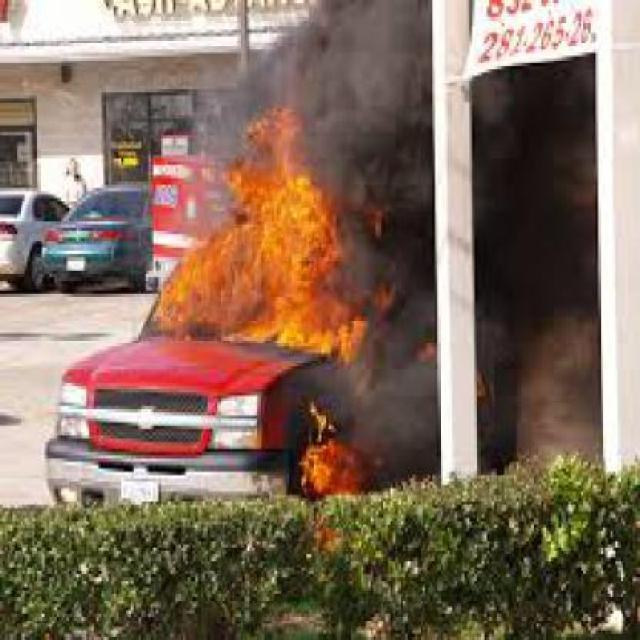Fire: (167, 171, 378, 361), (289, 410, 431, 515)
Smoke: (496, 152, 592, 422), (300, 27, 434, 154)
